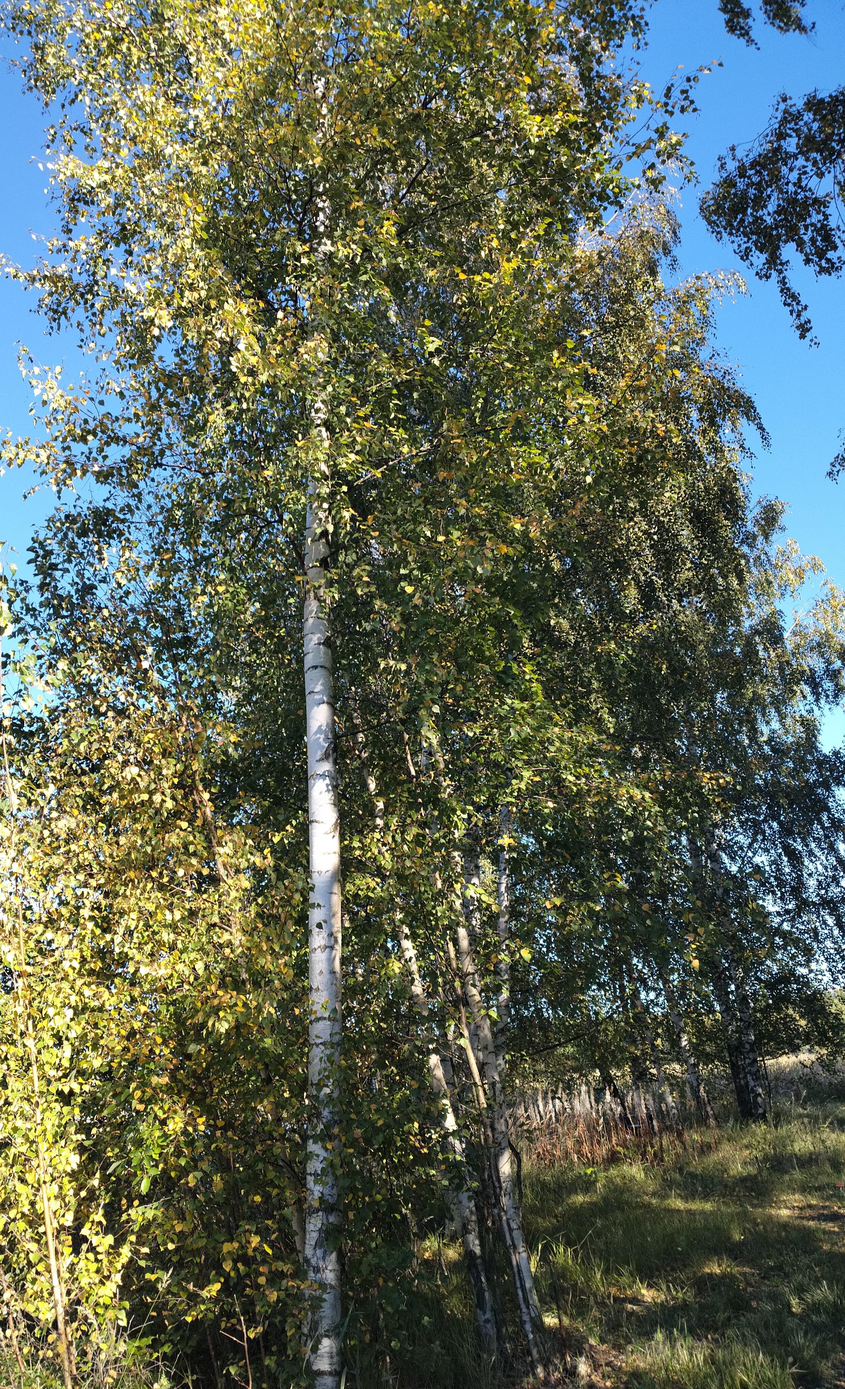Birch: (2, 2, 840, 1385), (66, 0, 596, 1367)
